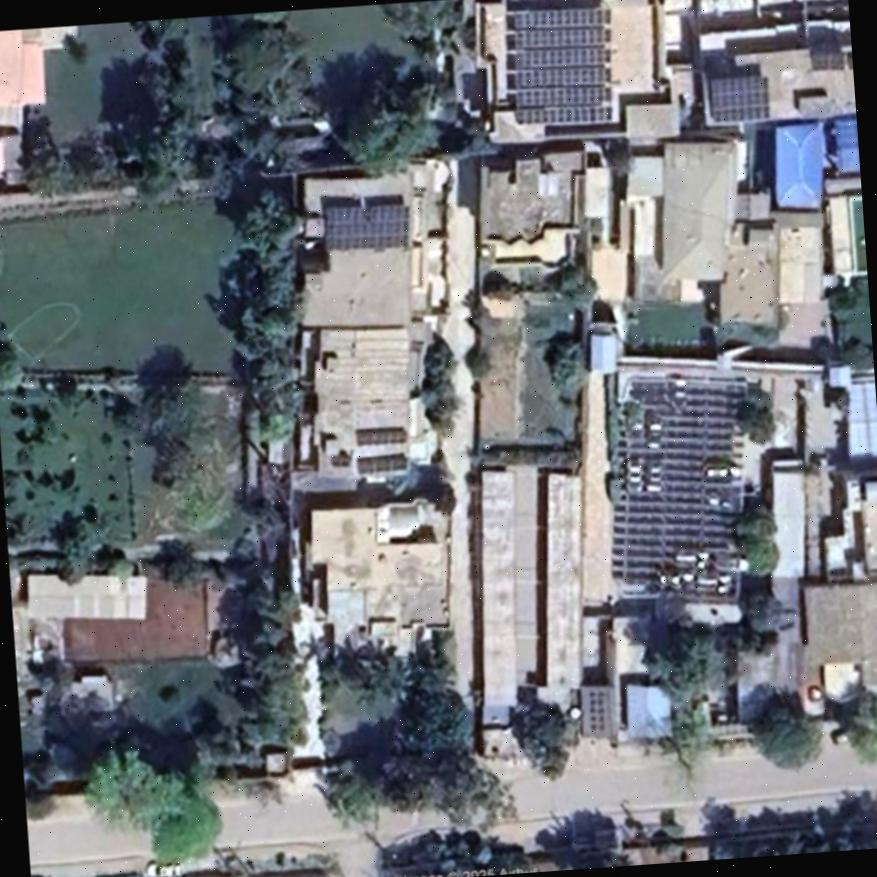Solarpanel: (516, 7, 610, 123), (324, 204, 408, 250), (714, 75, 768, 121), (355, 453, 405, 472), (810, 48, 851, 68), (357, 427, 404, 443)
